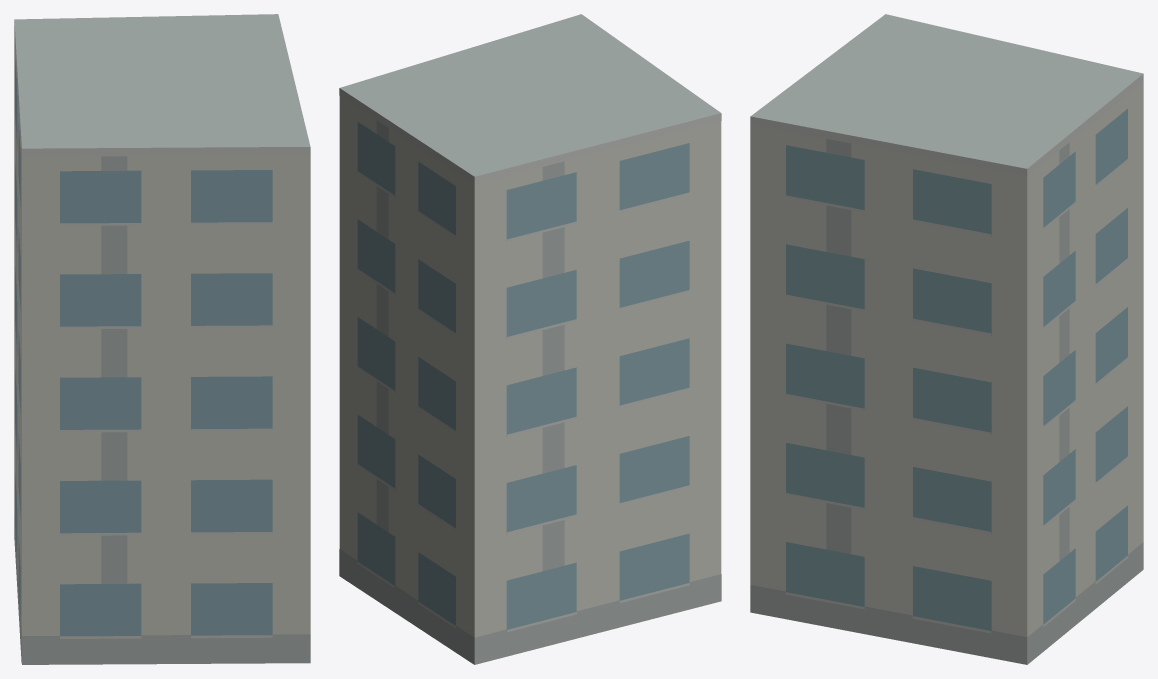
The model's file is survey-upis-32646659.glb.
The picture shows the model from 3 angles, left to right: view 1: azimuth 30°, elevation 25°; view 2: azimuth 150°, elevation 25°; view 3: azimuth 270°, elevation 25°; orthographic projection. The views are drawn at different scales.
Visible parts, largest first — view 1: survey-upis-32646659.tmp; view 2: survey-upis-32646659.tmp; view 3: survey-upis-32646659.tmp.
Boxes of the visible parts, x1=… form: survey-upis-32646659.tmp: x1=14, y1=14, x2=310, y2=664; survey-upis-32646659.tmp: x1=339, y1=14, x2=721, y2=664; survey-upis-32646659.tmp: x1=750, y1=14, x2=1143, y2=664.
Bounding box in the file's own units: 10.22 × 15.25 × 10.97.
